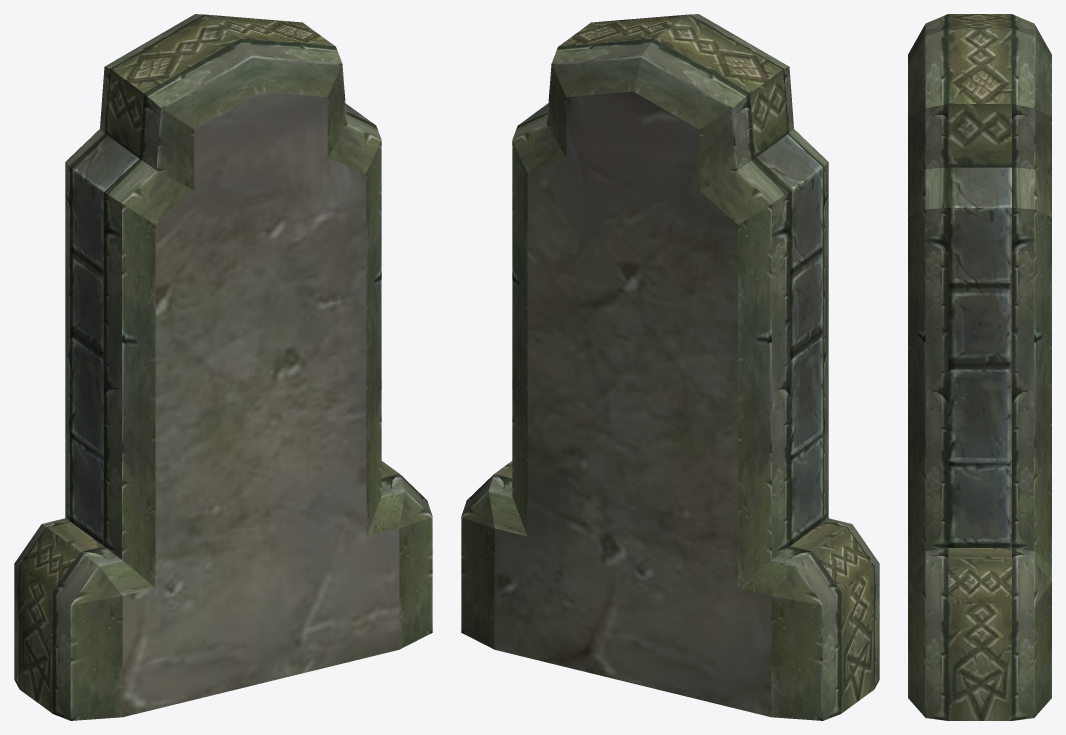
Rendered from F_qiang005.fbx.
3 renders of one model, left to right at view 1: azimuth 30°, elevation 25°; view 2: azimuth 150°, elevation 25°; view 3: azimuth 270°, elevation 25°, orthographic. The views are drawn at different scales.
Parts seen in each view (by area): view 1: F_qiang005; view 2: F_qiang005; view 3: F_qiang005.
Boxes of the visible parts, x1,y1,x2,y2 form: F_qiang005: (14,14,432,720); F_qiang005: (461,14,879,720); F_qiang005: (908,14,1051,720).
Bounding box in the file's own units: 152 × 243 × 52.58.
